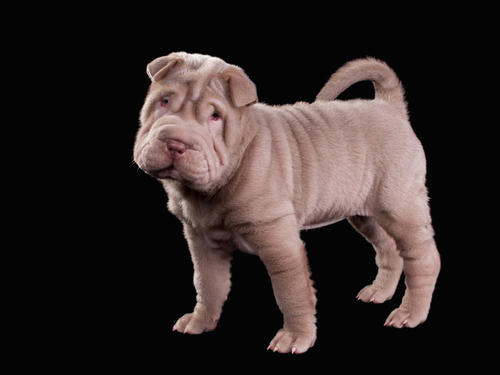dog: (123, 42, 278, 198)
